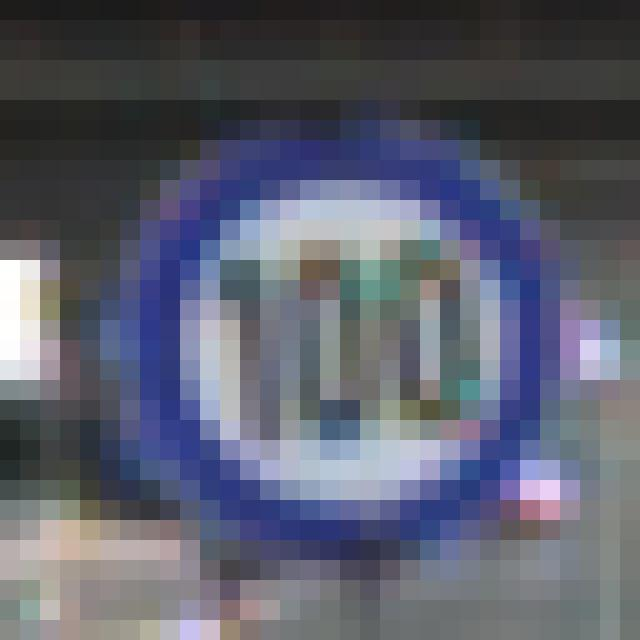SPEED LIMIT 100: (117, 119, 565, 566)
